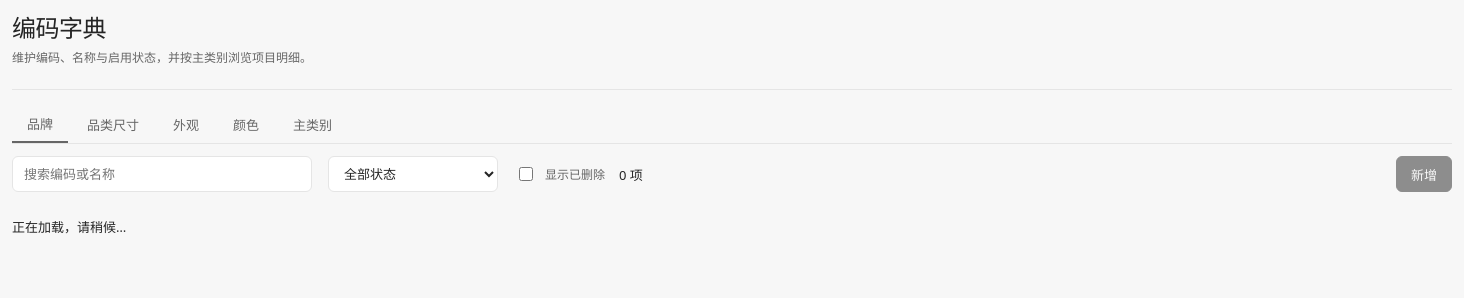
Scenario: DictionariesPage › ignores a superseded loading failure after the current category data is ready
What coordinates should you click on to do the following:
click the tab "主类别"
I would click on:
 (313, 124)
Its box is [278,106,347,143].
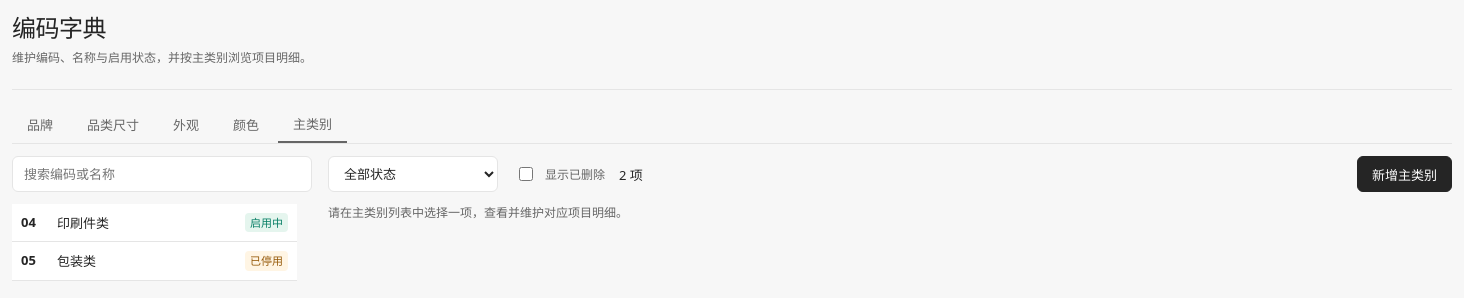
Now the text "印刷件类" is shown, box [57,214,109,232]
